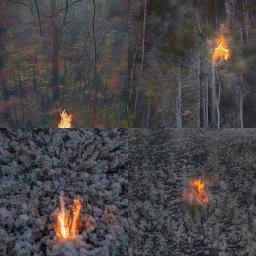Small fire: (51, 198, 91, 241), (211, 27, 232, 63), (54, 108, 74, 129)
